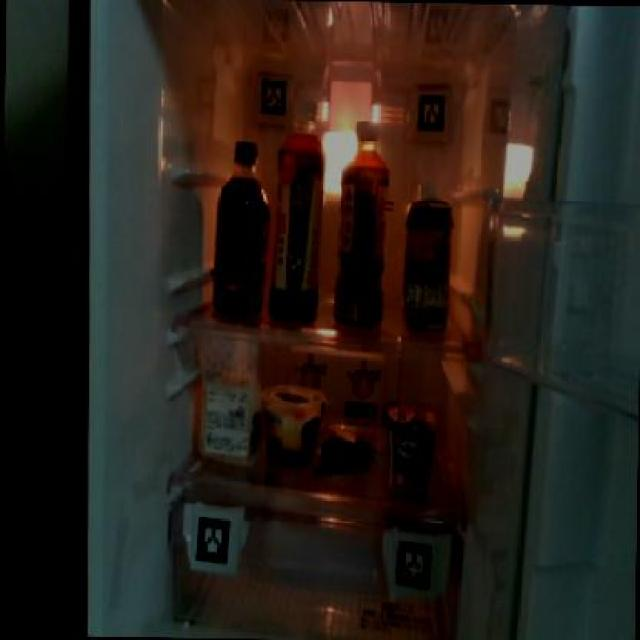coffee: (209, 134, 269, 314)
pudding: (260, 380, 318, 466)
rice_ball: (316, 420, 375, 478)
sandwich: (195, 327, 262, 459)
smoothie: (399, 182, 450, 336)
tea_a: (330, 121, 387, 324)
tea_i: (267, 111, 327, 323)
yogurt: (381, 399, 442, 488)
